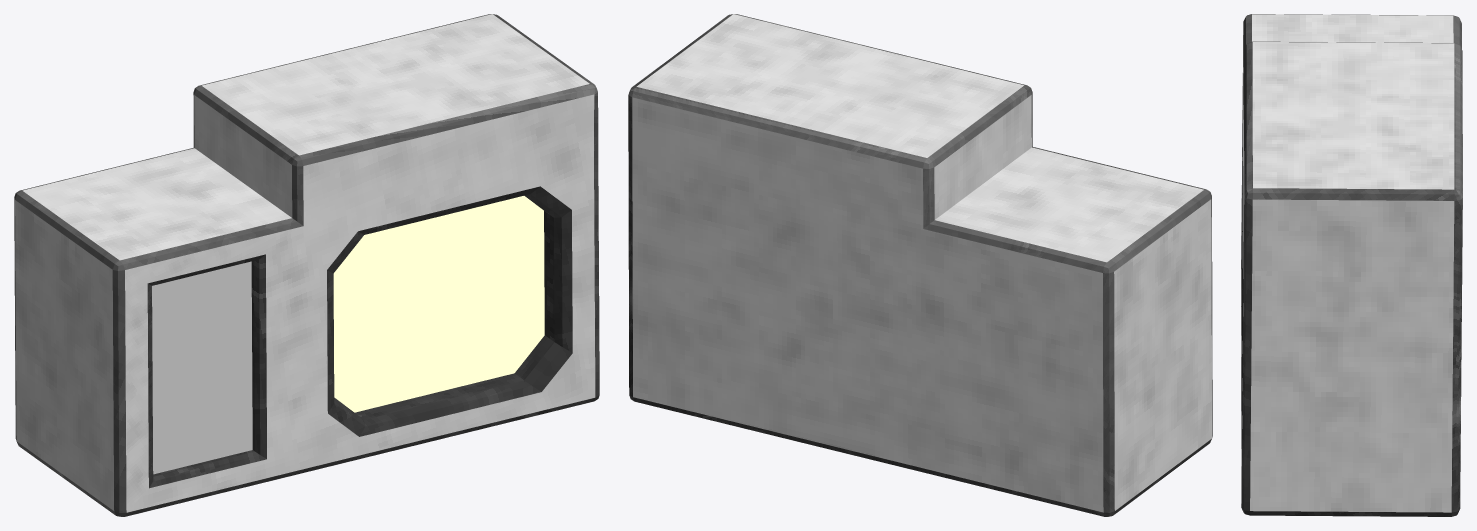
Rendered from door_opener.glb.
3 renders of one model, left to right at view 1: azimuth 30°, elevation 25°; view 2: azimuth 150°, elevation 25°; view 3: azimuth 270°, elevation 25°, orthographic. The views are drawn at different scales.
Visible parts, largest first — view 1: Cube; view 2: Cube; view 3: Cube.
Boxes of the visible parts, x1,y1,x2,y2 form: Cube: (14,14,599,516); Cube: (628,14,1212,516); Cube: (1241,14,1462,516).
Bounding box in the file's own units: 0.6757 × 0.4235 × 0.2587.
Materials: 4 (2 with a texture image).
